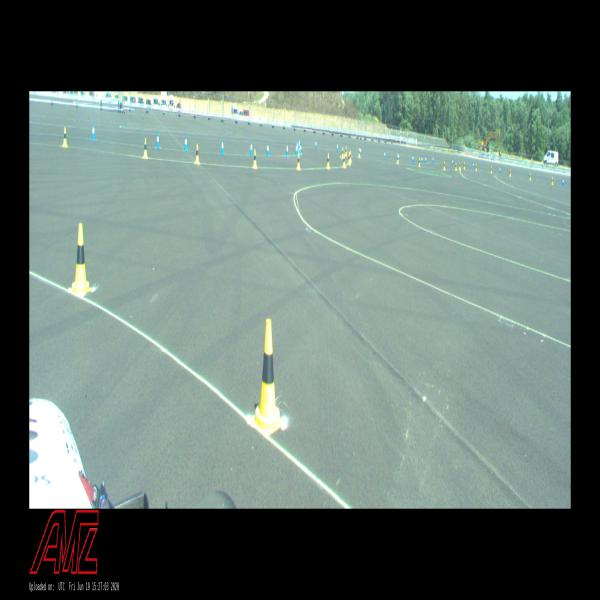blue_cone: (220, 139, 225, 154), (156, 132, 160, 148), (184, 135, 188, 151), (266, 142, 270, 155), (92, 123, 95, 140), (250, 141, 253, 155), (286, 143, 289, 156), (295, 144, 298, 155), (297, 140, 299, 152), (300, 143, 302, 154), (315, 140, 317, 149), (384, 151, 386, 159), (412, 155, 414, 163), (499, 166, 501, 174), (336, 143, 338, 151), (562, 178, 564, 185), (432, 156, 434, 163), (421, 156, 423, 163), (299, 139, 300, 148), (425, 155, 426, 163), (452, 158, 453, 166), (398, 153, 399, 161), (360, 147, 361, 155), (473, 162, 474, 168)
yellow_cone: (252, 319, 282, 435), (72, 223, 92, 294), (62, 127, 68, 147), (143, 138, 148, 158), (195, 144, 199, 164), (253, 149, 257, 168), (296, 152, 300, 169), (327, 153, 330, 169), (342, 155, 346, 167), (341, 147, 344, 158), (396, 155, 399, 164), (418, 158, 421, 166), (348, 153, 350, 164), (350, 151, 352, 162), (458, 162, 461, 169), (454, 163, 457, 170), (345, 146, 347, 156), (358, 148, 360, 158), (443, 161, 445, 170), (509, 169, 511, 177), (463, 162, 465, 169), (529, 173, 531, 180), (552, 178, 554, 185), (475, 164, 477, 170), (491, 166, 492, 173)
